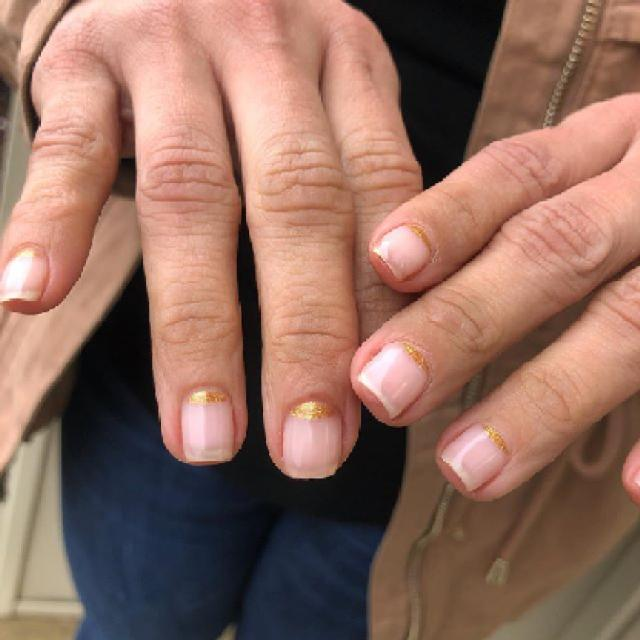Nail: (359, 342, 429, 418), (281, 400, 341, 478), (440, 426, 509, 489), (182, 389, 236, 462), (372, 225, 431, 278), (0, 249, 49, 301)
